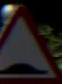Speed Breaker ahead: (1, 5, 61, 80)
